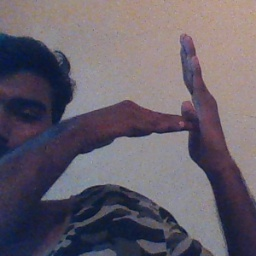Z: (126, 32, 235, 178)
